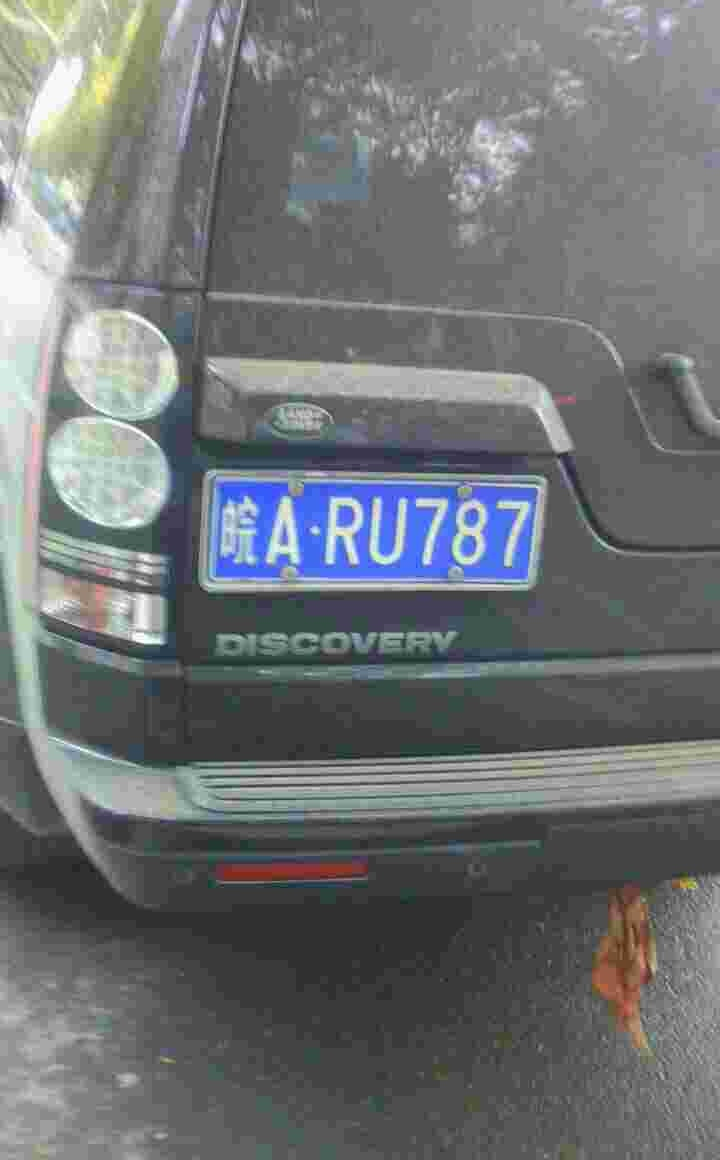license_plate: (224, 480, 540, 581)
